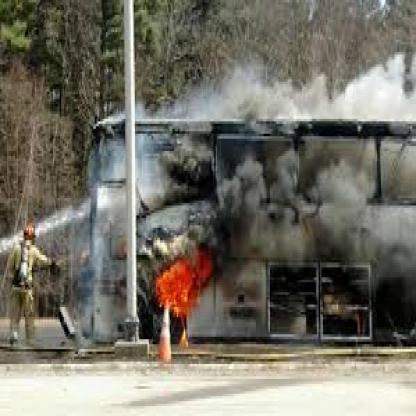fire: (259, 100, 416, 343), (100, 111, 244, 328)
